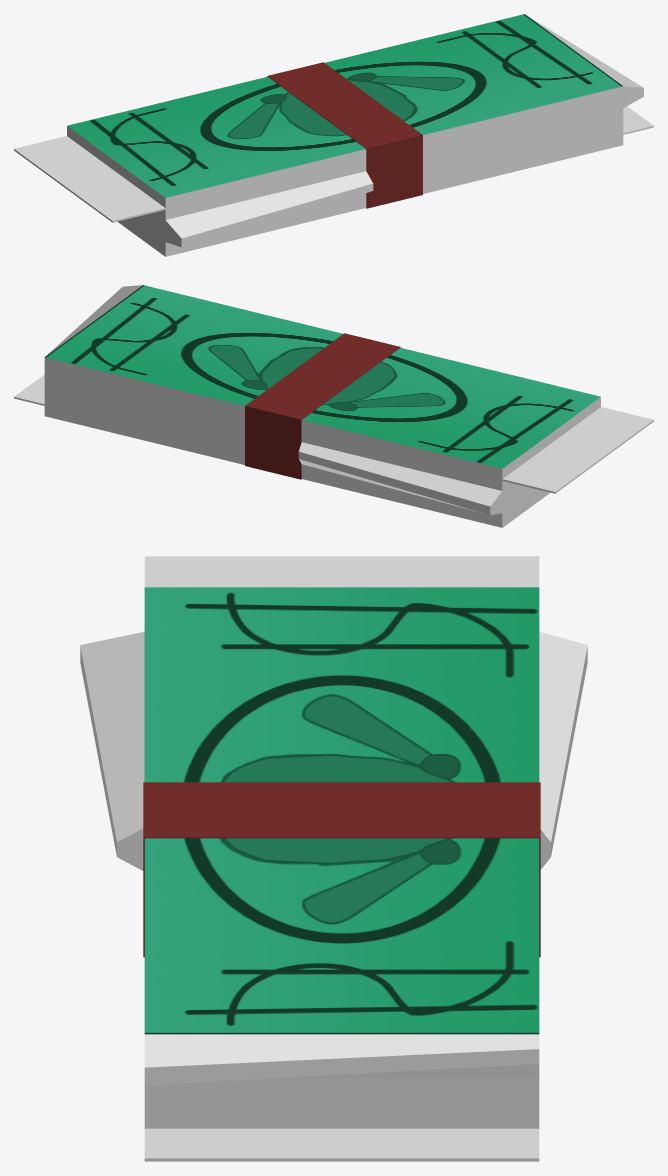
Rendered from money stack (money sticking out 3).fbx.
The picture shows the model from 3 angles, top to bottom: view 1: azimuth 30°, elevation 25°; view 2: azimuth 150°, elevation 25°; view 3: azimuth 270°, elevation 25°; orthographic projection. The views are drawn at different scales.
Visible parts, largest first — view 1: Plane; view 2: Plane; view 3: Plane.
Boxes of the visible parts, x1,y1,x2,y2 form: Plane: (14, 14, 653, 256); Plane: (14, 285, 653, 527); Plane: (80, 556, 587, 1161).
Size of the model in its own units: 715 by 75.84 by 290.
